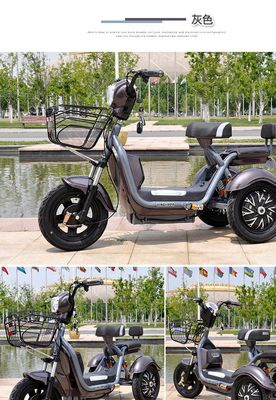non-vehicle: (35, 71, 275, 245), (5, 278, 157, 400), (172, 295, 273, 399)
